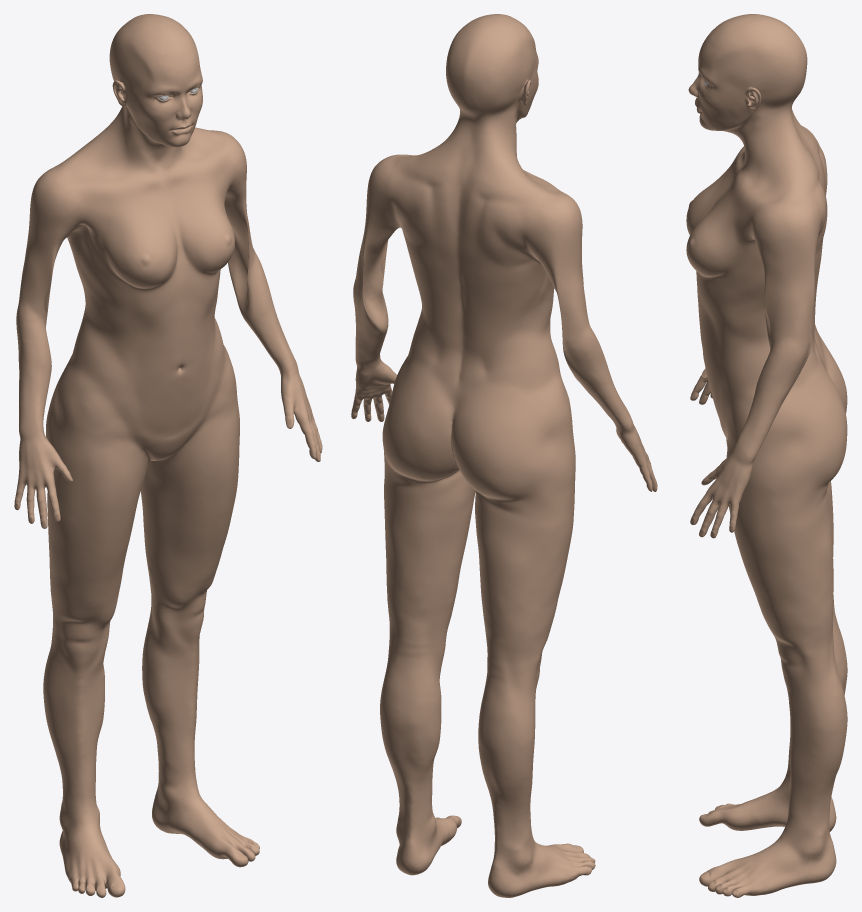
Rendered from female.glb.
3 views of the same model, side by side, from view 1: azimuth 30°, elevation 25°; view 2: azimuth 150°, elevation 25°; view 3: azimuth 270°, elevation 25° (orthographic).
Parts seen in each view (by area): view 1: Female Sculpt; view 2: Female Sculpt; view 3: Female Sculpt.
Boxes of the visible parts, x1,y1,x2,y2 form: Female Sculpt: [14, 14, 322, 897]; Female Sculpt: [351, 14, 657, 897]; Female Sculpt: [686, 14, 847, 897].
Bounding box in the file's own units: 1.31 × 3.5 × 0.6078.
